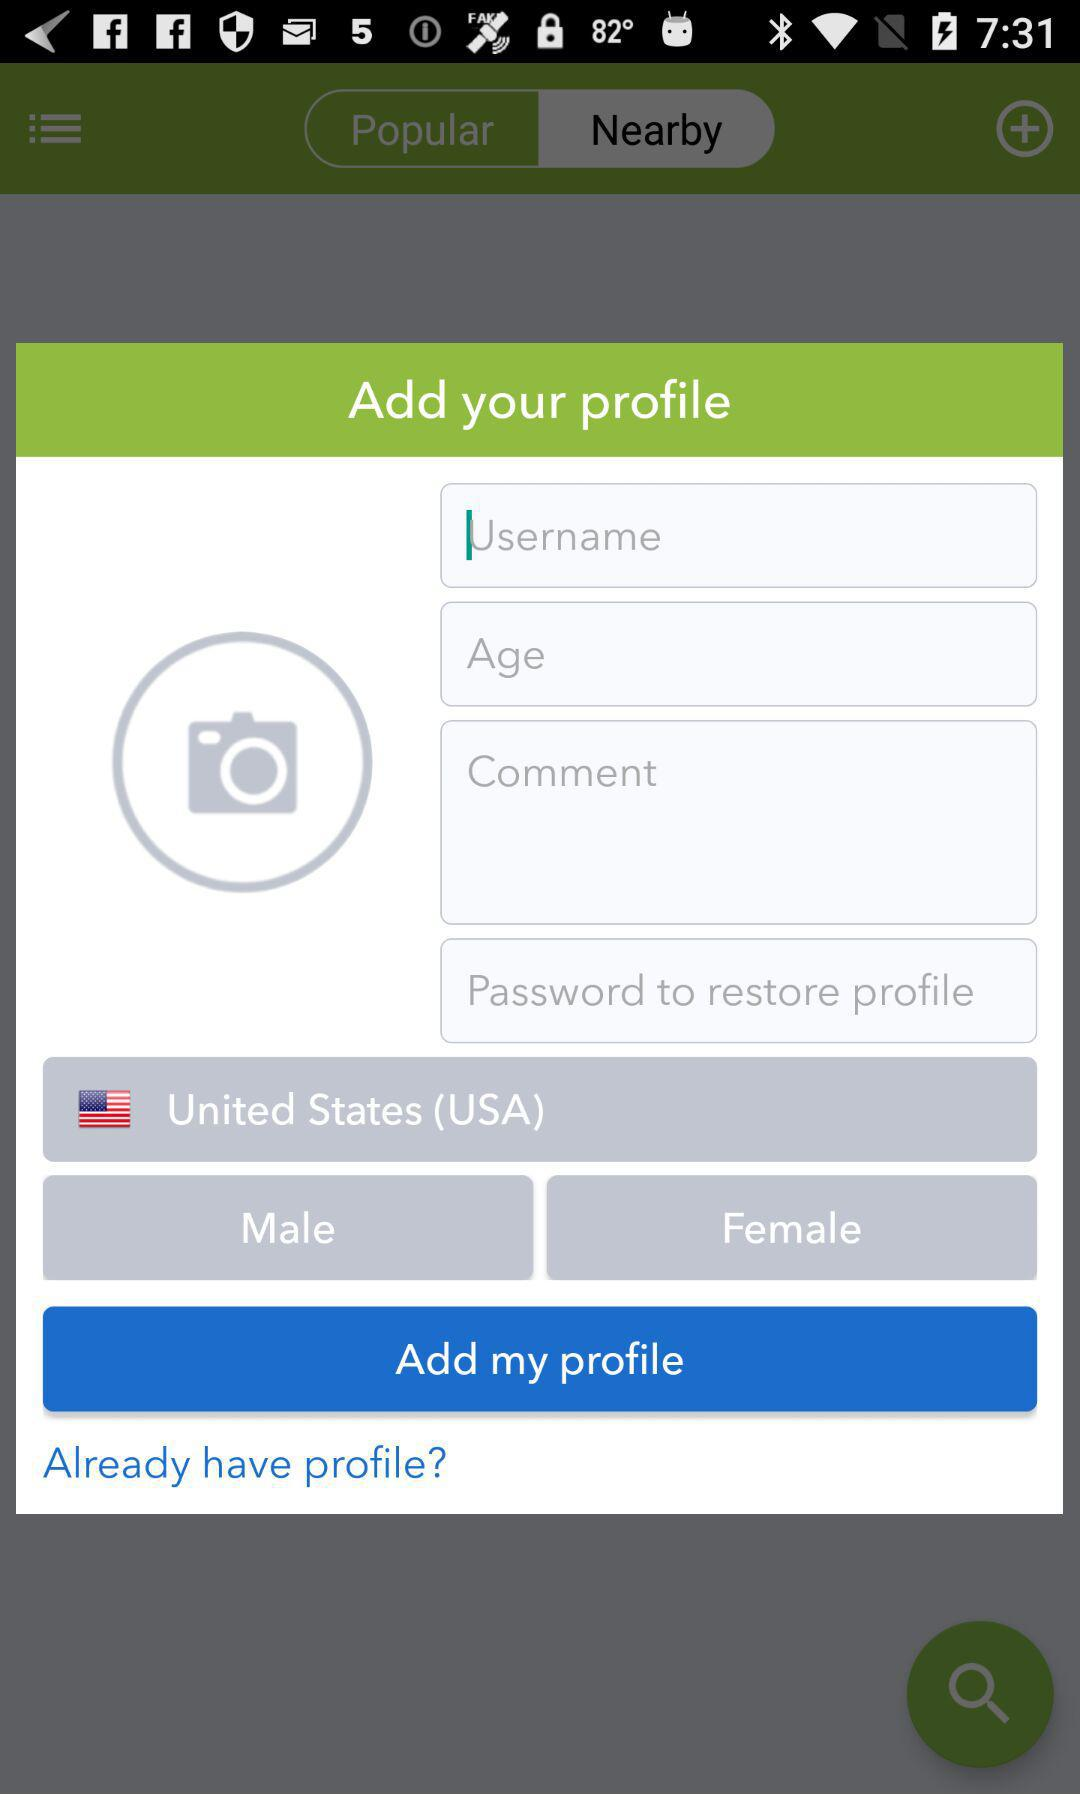EditText: (439, 720, 1038, 926), (439, 601, 1038, 709), (439, 938, 1038, 1044), (439, 484, 1036, 589)
Icon: (906, 1621, 1053, 1770), (994, 100, 1054, 160), (28, 113, 83, 146)
Image: (111, 632, 372, 893)
Modal: (15, 343, 1063, 1513)
Text: (350, 379, 730, 431), (44, 1445, 446, 1486), (469, 755, 659, 788), (469, 520, 661, 552), (468, 638, 544, 679)
TextButton: (44, 1304, 1038, 1412), (44, 1057, 1038, 1164), (544, 1175, 1038, 1281), (44, 1175, 537, 1281), (539, 88, 776, 170), (304, 90, 539, 170)
UpperTaskBar: (1, 1, 1080, 64)
